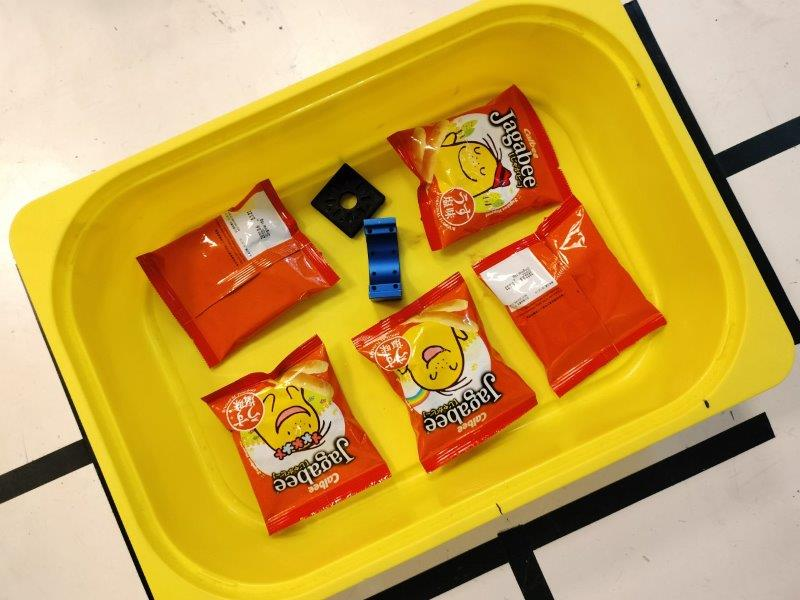Jagabee: (471, 198, 670, 398), (136, 180, 340, 369), (201, 334, 391, 536), (353, 272, 538, 473), (389, 85, 574, 252)
